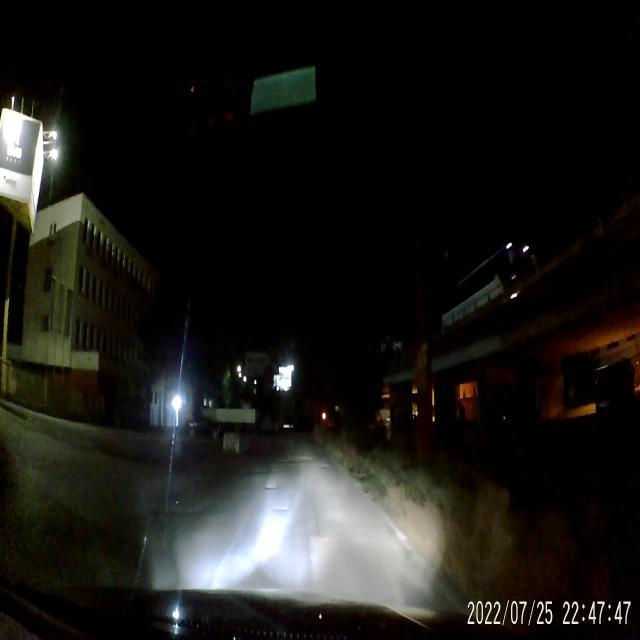Pothole: (280, 454, 314, 468), (262, 479, 279, 495), (250, 467, 272, 477), (270, 505, 290, 515), (319, 463, 330, 473)
